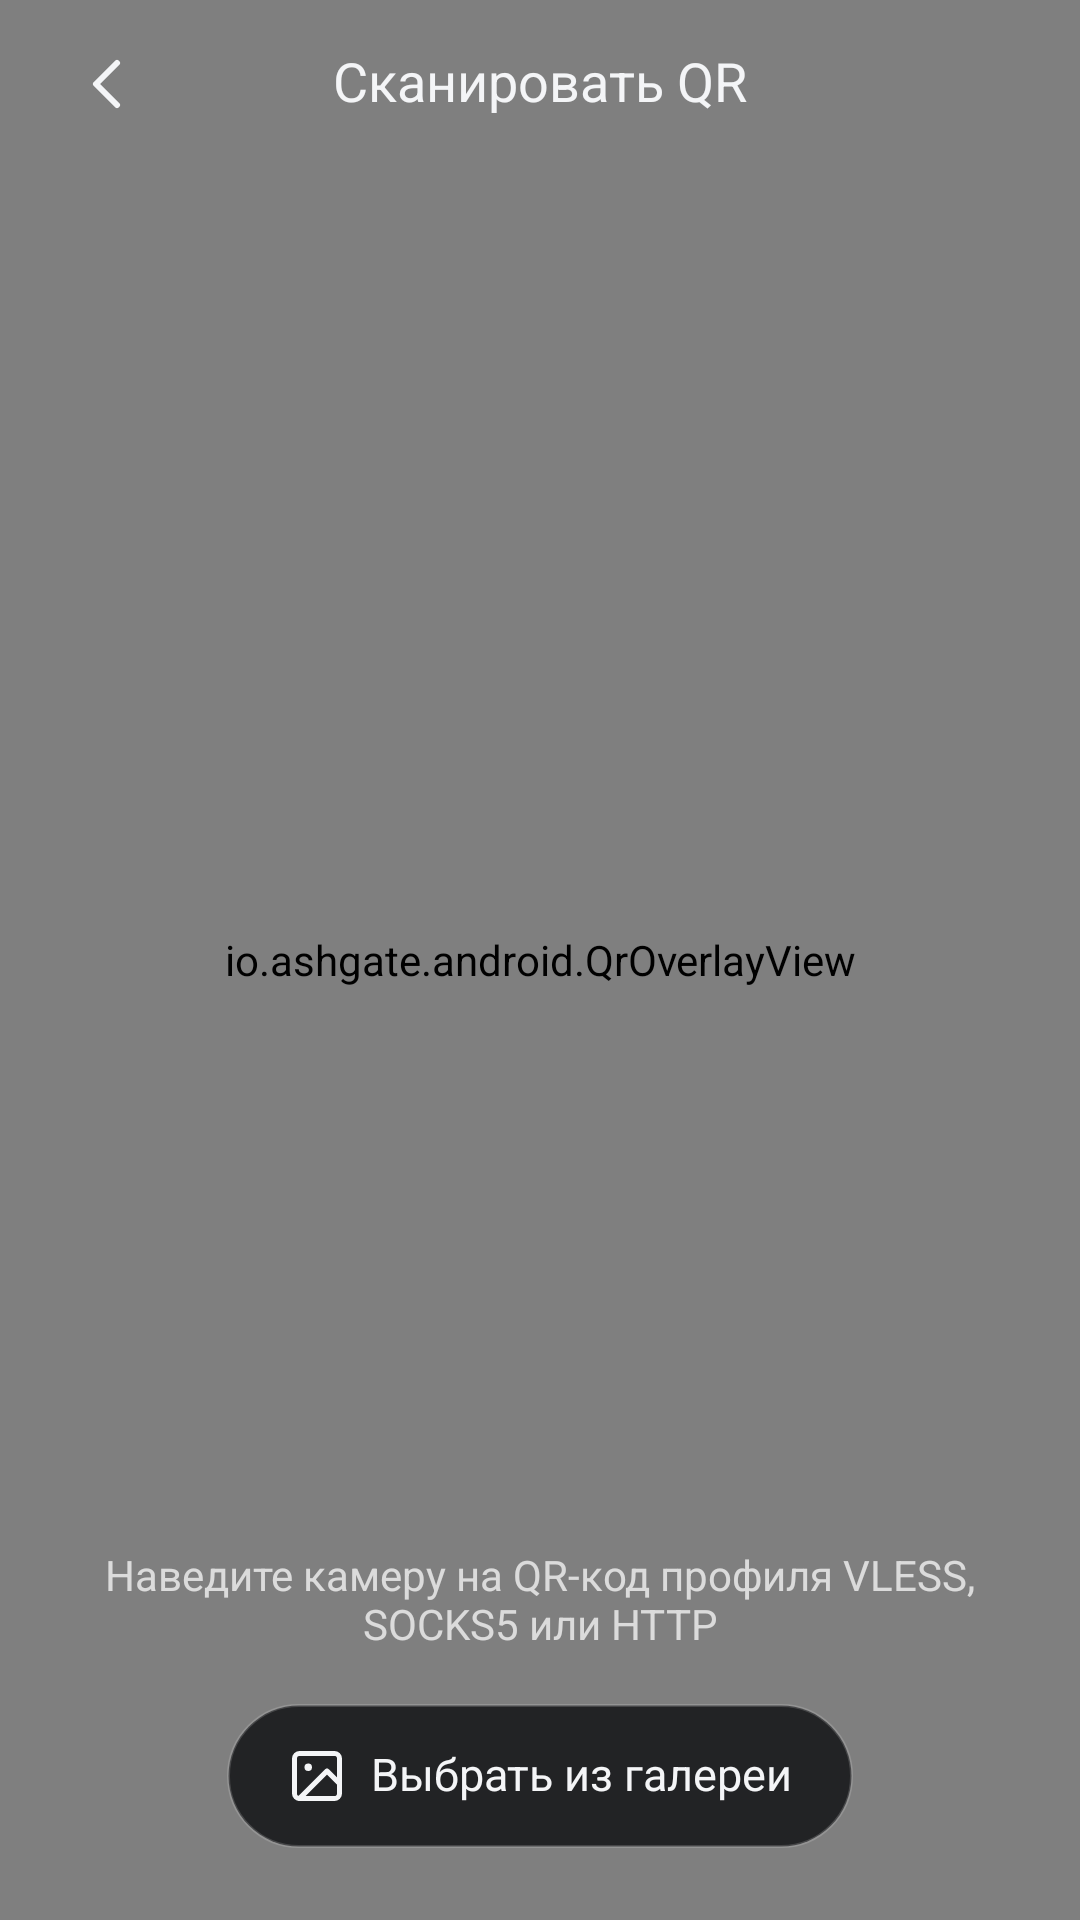

Screen size 1080*1920. Icon name, then its center in pixels as (x,y):
gallery: (317,1776)
